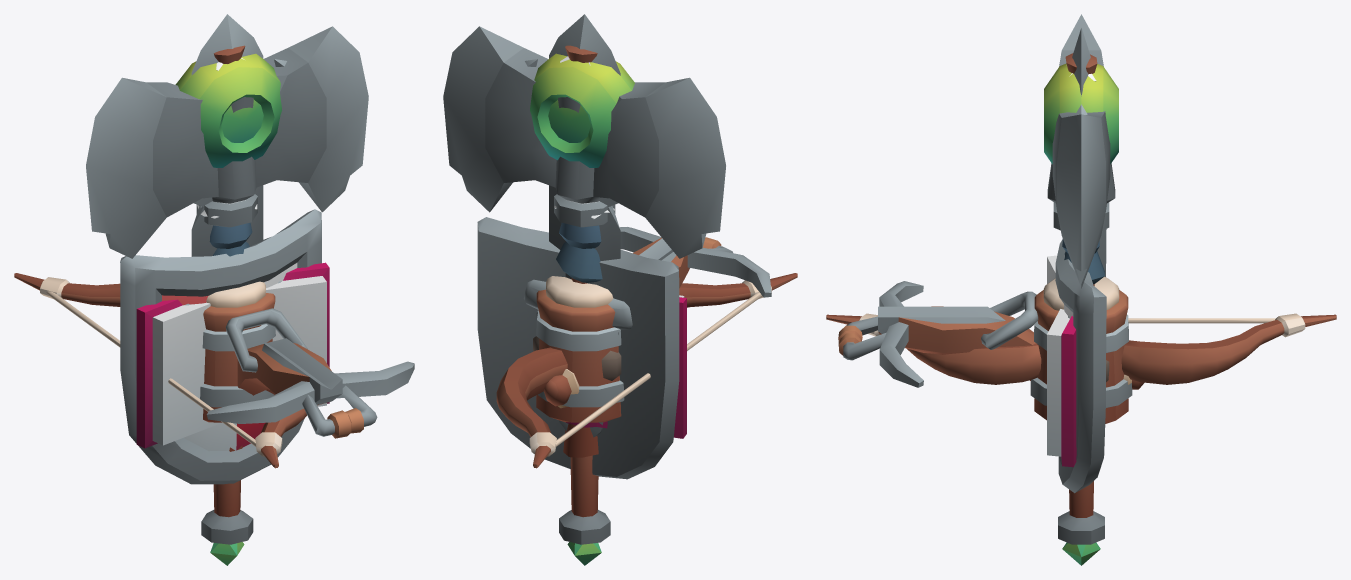
The model's file is props.glb.
The picture shows the model from 3 angles, left to right: view 1: azimuth 30°, elevation 25°; view 2: azimuth 150°, elevation 25°; view 3: azimuth 270°, elevation 25°; orthographic projection. The views are drawn at different scales.
Visible parts, largest first — view 1: axe_2handed, shield_badge_color, spellbook_open, staff, crossbow_1handed, mug_full, bow_withString, sword_1handed; view 2: axe_2handed, shield_badge_color, staff, mug_full, bow_withString, crossbow_1handed, sword_1handed, spellbook_open; view 3: bow_withString, crossbow_1handed, axe_2handed, shield_badge_color, staff, mug_full, spellbook_open, sword_1handed.
Part boxes in pixels (x1,y1,x2,y2): axe_2handed: [86, 26, 368, 451]; shield_badge_color: [120, 209, 321, 484]; spellbook_open: [136, 262, 329, 448]; staff: [175, 53, 286, 565]; crossbow_1handed: [206, 308, 414, 438]; mug_full: [200, 281, 275, 422]; bow_withString: [14, 273, 306, 468]; sword_1handed: [184, 14, 281, 305]; axe_2handed: [443, 26, 725, 457]; shield_badge_color: [477, 217, 679, 479]; staff: [525, 53, 634, 565]; mug_full: [536, 276, 624, 422]; bow_withString: [496, 273, 797, 468]; crossbow_1handed: [544, 227, 771, 408]; sword_1handed: [524, 14, 632, 437]; spellbook_open: [536, 295, 686, 438]; bow_withString: [826, 313, 1336, 384]; crossbow_1handed: [838, 281, 1144, 389]; axe_2handed: [1047, 14, 1115, 288]; shield_badge_color: [1055, 229, 1109, 493]; staff: [1044, 63, 1118, 565]; mug_full: [1030, 276, 1132, 423]; spellbook_open: [1047, 255, 1076, 467]; sword_1handed: [1068, 27, 1090, 318].
Bounding box in the file's own units: 1.24 × 2.31 × 1.98.
Materials: 5 (5 with a texture image).
